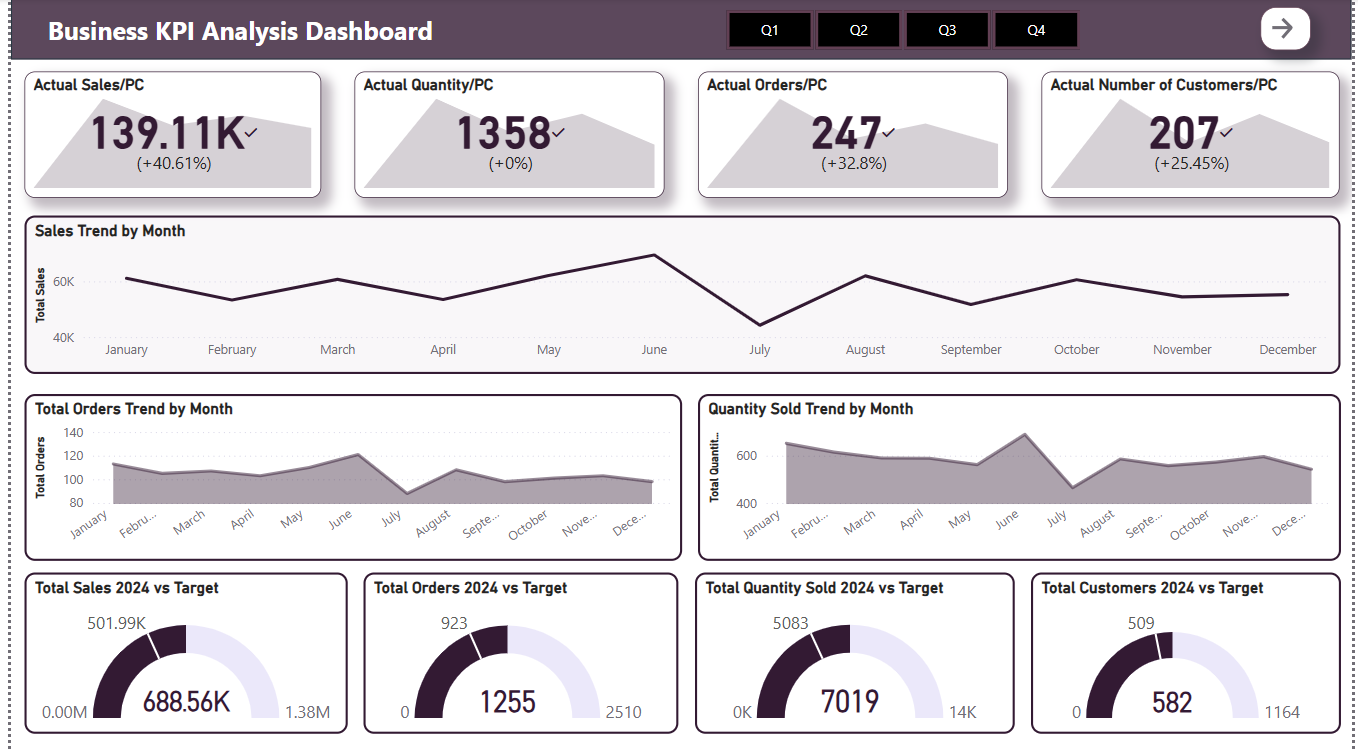

The dashboard page shown, as its layout file describes it:
{"tool":"powerbi","page":{"name":"KPI Summary and Trends Page","canvas":[1280,720],"ordinal":0},"visuals":[{"type":"kpi","title":"Actual Quantity/PC","fields":{"TrendLine":["Sales data 2024.product_category"],"Indicator":["Sum(Sales data 2024.quantity_sold)"],"Goal":["Sum(Sales data 2024.quantity_sold)"]},"box":[328.2,70,295.9,120.9],"z":0,"group":"g1"},{"type":"kpi","title":"Actual Orders/PC","fields":{"TrendLine":["Sales data 2024.product_category"],"Indicator":["CountNonNull(Sales data 2024.order_id)"],"Goal":["CountNonNull(Sales data 2023.order_id)"]},"box":[656.4,70,295.9,120.9],"z":2000,"group":"g1"},{"type":"kpi","title":"Actual Number of Customers/PC","fields":{"TrendLine":["Sales data 2024.product_category"],"Indicator":["Count(Sales data 2024.customer_id)"],"Goal":["Count(Sales data 2023.customer_id)"]},"box":[984.6,70,284.7,120.9],"z":3000,"group":"g1"},{"type":"lineChart","title":"Sales Trend by Month","fields":{"Category":["Sales data 2024.date.Variation.Date Hierarchy.Year","Sales data 2024.date.Variation.Date Hierarchy.Quarter","Sales data 2024.date.Variation.Date Hierarchy.Month","Sales data 2024.date.Variation.Date Hierarchy.Day"],"Y":["Sum(Sales data 2024.sales)"]},"box":[12.7,208.4,1256.6,151.1],"z":4000,"group":"g1"},{"type":"areaChart","title":"Total Orders Trend by Month","fields":{"Category":["Sales data 2024.date.Variation.Date Hierarchy.Year","Sales data 2024.date.Variation.Date Hierarchy.Quarter","Sales data 2024.date.Variation.Date Hierarchy.Month","Sales data 2024.date.Variation.Date Hierarchy.Day"],"Y":["CountNonNull(Sales data 2024.order_id)"]},"box":[12.7,378.6,628.3,159.1],"z":5000,"group":"g1"},{"type":"areaChart","title":"Quantity Sold Trend by Month","fields":{"Category":["Sales data 2024.date.Variation.Date Hierarchy.Year","Sales data 2024.date.Variation.Date Hierarchy.Quarter","Sales data 2024.date.Variation.Date Hierarchy.Month","Sales data 2024.date.Variation.Date Hierarchy.Day"],"Y":["Sum(Sales data 2024.quantity_sold)"]},"box":[655.3,378.6,614,159.1],"z":6000,"group":"g1"},{"type":"gauge","title":"Total Sales 2024  vs Target","fields":{"Y":["Sum(Sales data 2024.sales)"],"TargetValue":["Sum(Sales data 2023.Sales)"]},"box":[12.7,548.8,308.6,154.3],"z":7000,"group":"g1"},{"type":"gauge","title":"Total Orders 2024  vs Target","fields":{"Y":["CountNonNull(Sales data 2024.order_id)"],"TargetValue":["CountNonNull(Sales data 2023.order_id)"]},"box":[336.7,548.8,300.6,154.3],"z":8000,"group":"g1"},{"type":"gauge","title":"Total Quantity Sold 2024  vs Target","fields":{"Y":["Sum(Sales data 2024.quantity_sold)"],"TargetValue":["Sum(Sales data 2023.Quantity_Sold)"]},"box":[652.7,548.8,305.4,154.3],"z":9000,"group":"g1"},{"type":"gauge","title":"Total Customers 2024  vs Target","fields":{"Y":["Count(Sales data 2024.customer_id)"],"TargetValue":["Count(Sales data 2023.customer_id)"]},"box":[973.5,548.8,295.9,154.3],"z":10000,"group":"g1"},{"type":"kpi","title":"Actual Sales/PC","fields":{"Indicator":["Sum(Sales data 2024.sales)"],"TrendLine":["Sales data 2024.product_category"],"Goal":["Sum(Sales data 2023.Sales)"]},"box":[12.7,70,283.1,120.9],"z":11000,"group":"g1"},{"type":"shape","box":[0,0,1280,58.9],"z":12500,"group":"g1"},{"type":"textbox","box":[30.2,8,407.2,44.5],"z":13000,"group":"g1"},{"type":"slicer","fields":{"Values":["Sales data 2024.Quarter"]},"box":[657.1,5,387,51.8],"z":13001,"group":"g1"},{"type":"actionButton","box":[1192.9,8.9,48.2,41.1],"z":13002,"group":"g1"},{"type":"group","id":"g1","title":"Group 1","box":[0,0,1280,703.1],"z":13003}]}

Visuals, with their boxes in screenshot pixels (x1, y1, x2, y2), scaled from the page's 1280x720 canvas onto the 1358x750 screenshot:
"Actual Quantity/PC" kpi: region(348, 73, 662, 199)
"Actual Orders/PC" kpi: region(696, 73, 1010, 199)
"Actual Number of Customers/PC" kpi: region(1045, 73, 1347, 199)
"Sales Trend by Month" lineChart: region(13, 217, 1347, 374)
"Total Orders Trend by Month" areaChart: region(13, 394, 680, 560)
"Quantity Sold Trend by Month" areaChart: region(695, 394, 1347, 560)
"Total Sales 2024  vs Target" gauge: region(13, 572, 341, 732)
"Total Orders 2024  vs Target" gauge: region(357, 572, 676, 732)
"Total Quantity Sold 2024  vs Target" gauge: region(692, 572, 1016, 732)
"Total Customers 2024  vs Target" gauge: region(1033, 572, 1347, 732)
"Actual Sales/PC" kpi: region(13, 73, 314, 199)
shape: region(0, 0, 1357, 61)
textbox: region(32, 8, 464, 55)
slicer - Sales data 2024.Quarter: region(697, 5, 1108, 59)
actionButton: region(1266, 9, 1317, 52)
"Group 1" group: region(0, 0, 1357, 732)
